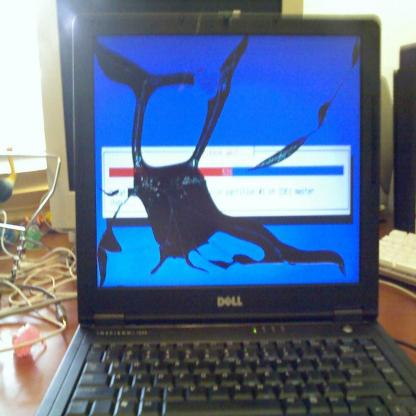board: (36, 5, 408, 416)
